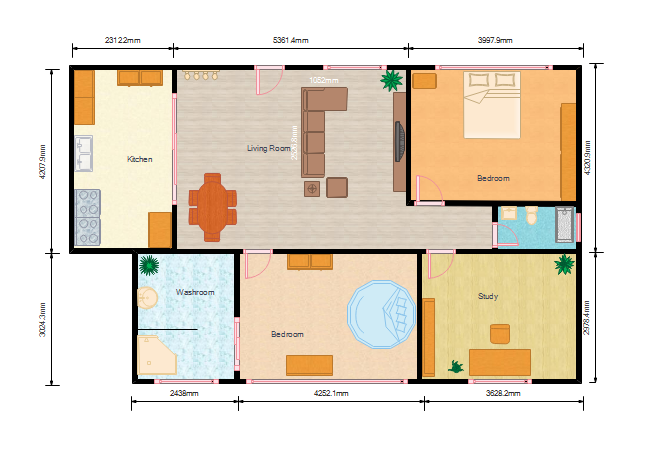room: (172, 65, 411, 254), (405, 64, 581, 205), (417, 248, 581, 384), (69, 65, 177, 254)
